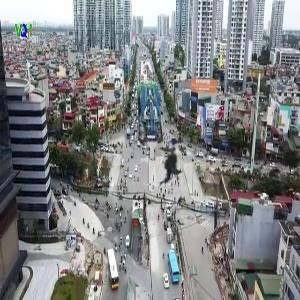drone: (84, 64, 268, 248)
